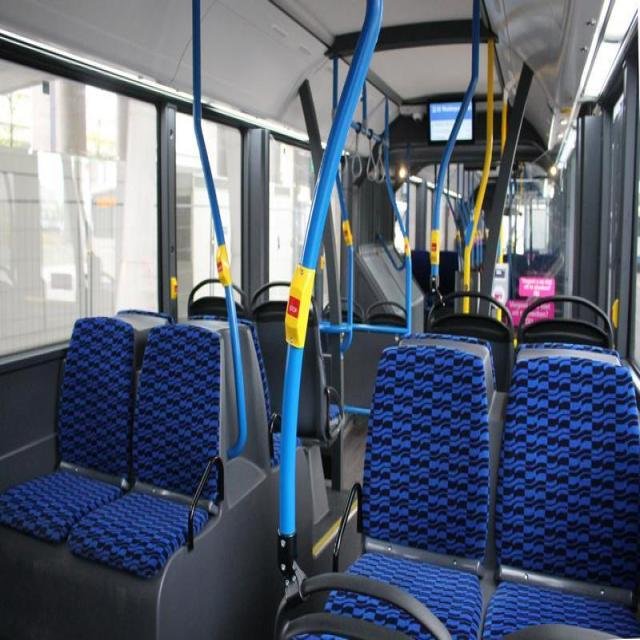empty-seat-frontal: (319, 342, 487, 638), (481, 352, 640, 640), (66, 318, 224, 574), (0, 315, 134, 553)
